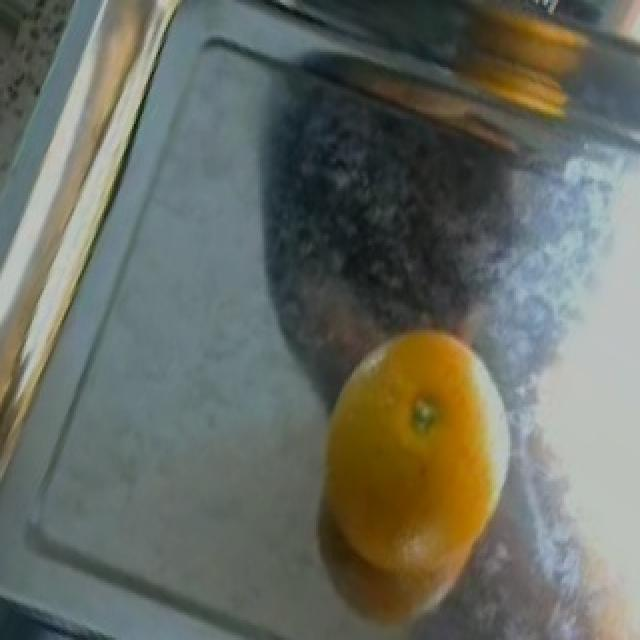Fruit: (296, 305, 524, 640)
